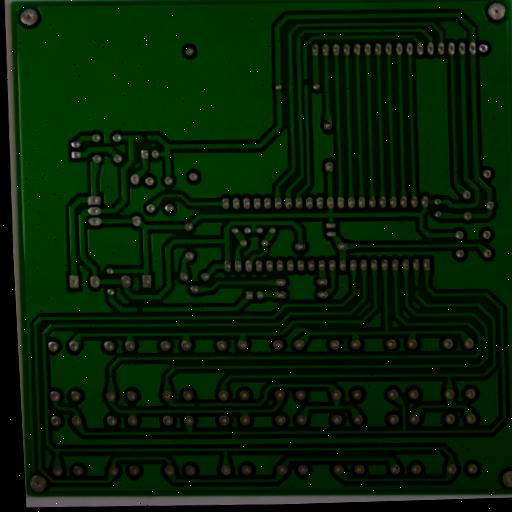open_circuit: (301, 76, 311, 89), (139, 132, 150, 143), (413, 282, 423, 293), (133, 305, 145, 314), (192, 401, 202, 409)
